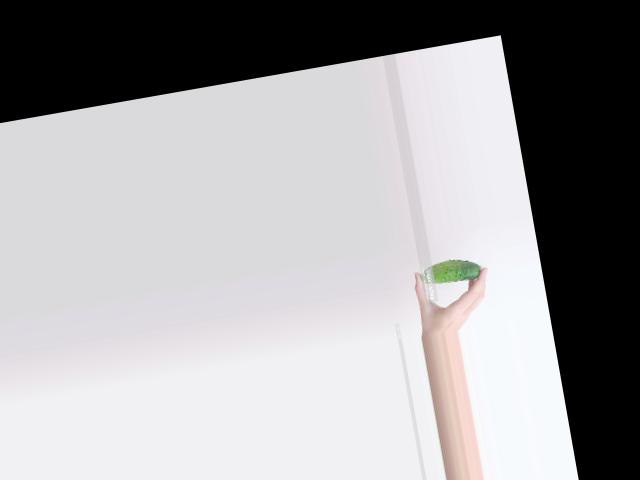cucumber: (418, 254, 482, 287)
